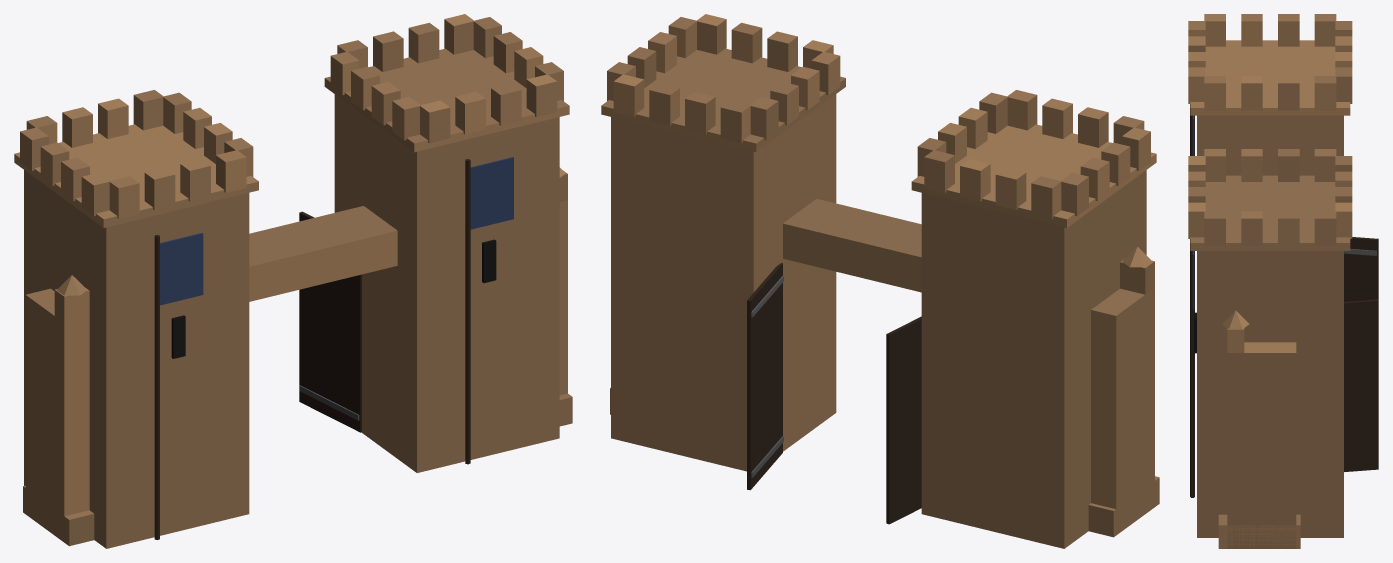
File: walk_sunborn_gate.glb
3 renders of one model, left to right at view 1: azimuth 30°, elevation 25°; view 2: azimuth 150°, elevation 25°; view 3: azimuth 270°, elevation 25°, orthographic. The views are drawn at different scales.
Parts seen in each view (by area): view 1: walk_sunborn_gate, walk_sunborn_gate_door1; view 2: walk_sunborn_gate, walk_sunborn_gate_door1, walk_sunborn_gate_door0; view 3: walk_sunborn_gate, walk_sunborn_gate_door1, walk_sunborn_gate_door0.
Part boxes in pixels (x1,y1,x2,y2): walk_sunborn_gate: [14, 14, 572, 548]; walk_sunborn_gate_door1: [299, 211, 361, 432]; walk_sunborn_gate: [601, 14, 1159, 548]; walk_sunborn_gate_door1: [747, 263, 783, 490]; walk_sunborn_gate_door0: [886, 316, 921, 524]; walk_sunborn_gate: [1188, 14, 1352, 548]; walk_sunborn_gate_door1: [1344, 299, 1378, 471]; walk_sunborn_gate_door0: [1344, 237, 1378, 301].
Size of what is drawn, in the model's own units: 12 by 8.25 by 4.41.
Materials: 2 (2 with a texture image).
